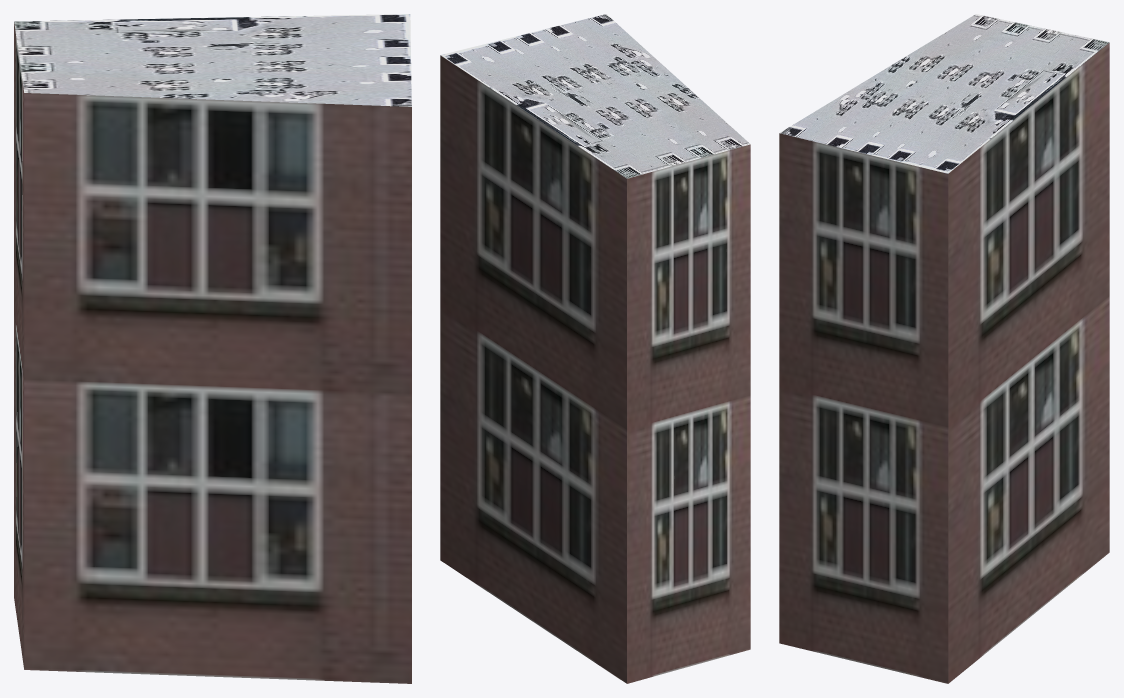
The model's file is ResTex__368.fbx.
3 views of the same model, side by side, from view 1: azimuth 30°, elevation 25°; view 2: azimuth 150°, elevation 25°; view 3: azimuth 270°, elevation 25° (orthographic). The views are drawn at different scales.
Visible parts, largest first — view 1: CityEngineMaterial_12_m, CityEngineMaterial_8_m; view 2: CityEngineMaterial_12_m, CityEngineMaterial_8_m; view 3: CityEngineMaterial_12_m, CityEngineMaterial_8_m.
Part boxes in pixels (box(x1,y1,x2,y2)): CityEngineMaterial_12_m: box(14, 22, 411, 683); CityEngineMaterial_8_m: box(14, 14, 411, 106); CityEngineMaterial_12_m: box(440, 55, 750, 683); CityEngineMaterial_8_m: box(440, 14, 750, 178); CityEngineMaterial_12_m: box(779, 42, 1109, 683); CityEngineMaterial_8_m: box(779, 14, 1109, 173).
Size of the model in its own units: 4.03 by 6 by 3.52.
2 materials, 2 textured.
